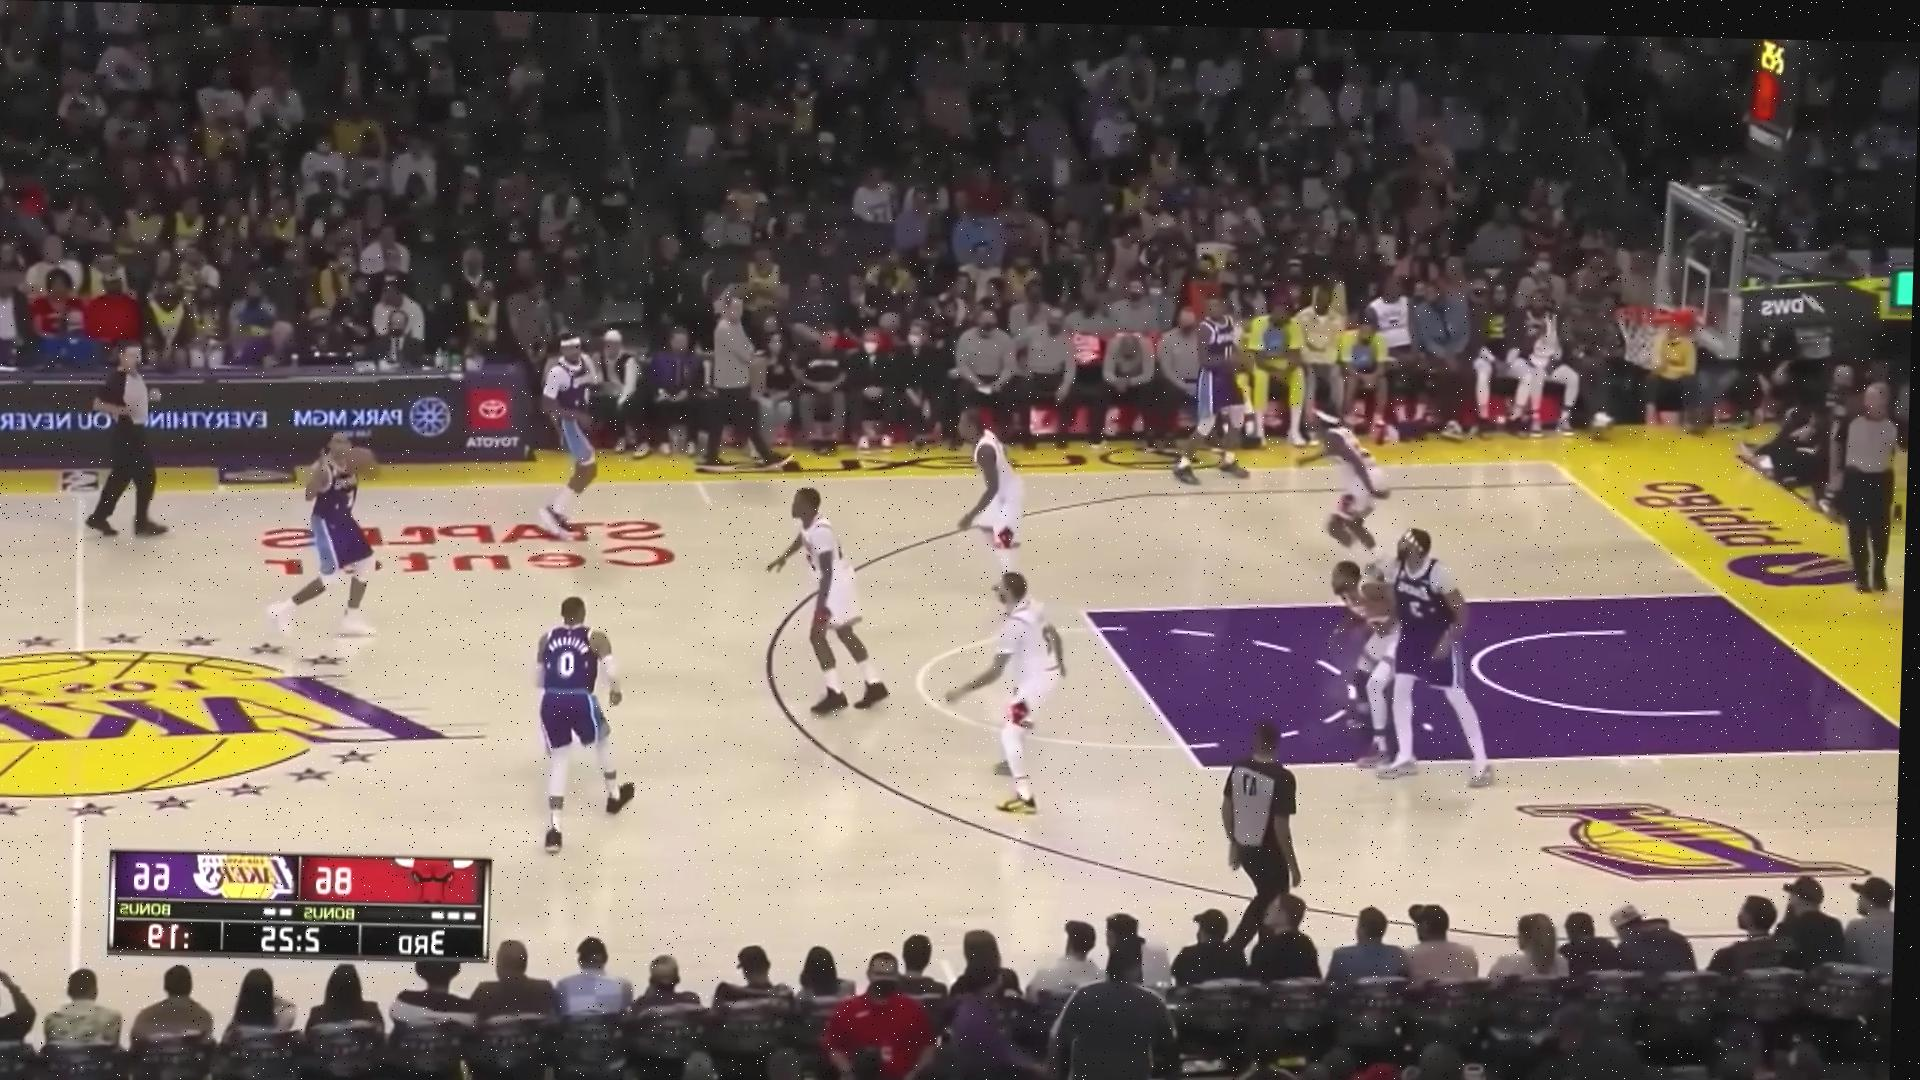foul: (1329, 509, 1488, 783)
